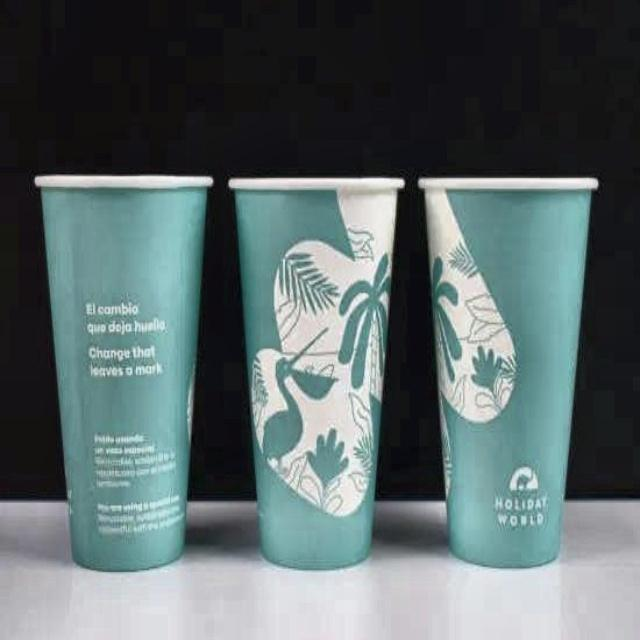paper_cup: (412, 169, 606, 571), (28, 167, 216, 579), (228, 172, 407, 570)
